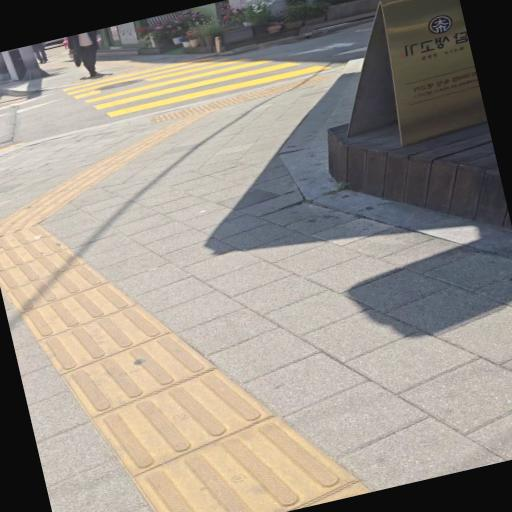yellow-crosswalk: (38, 15, 364, 140)
